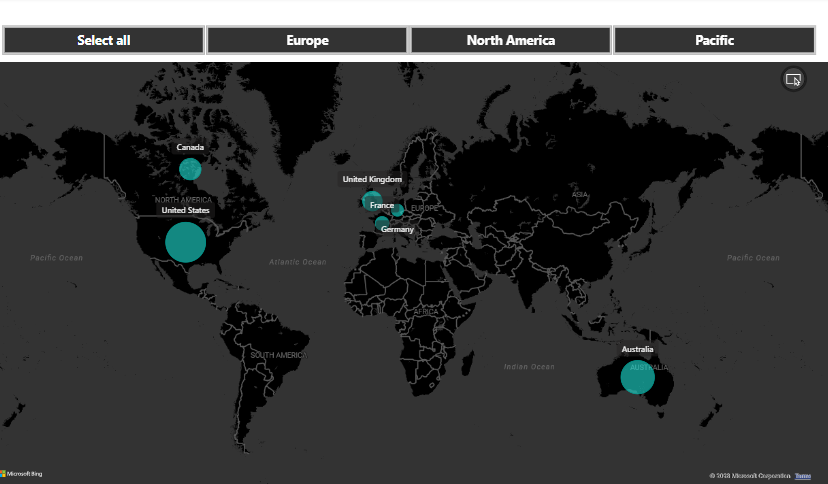

Layout of this report page (visuals, bound fields, positions):
{"tool":"powerbi","page":{"name":"Map","canvas":[1280,720],"ordinal":2},"visuals":[{"type":"shape","box":[0,0,46.1,720],"z":0},{"type":"map","fields":{"Category":["Territory Lookup.Country"],"Size":["Measure Table.Total Orders"]},"box":[46.1,90.6,1233.4,629.4],"z":1000},{"type":"slicer","fields":{"Values":["Territory Lookup.Continent"]},"box":[35,35,1244.5,55.6],"z":2000},{"type":"actionButton","box":[3.7,460.4,39.7,52.5],"z":3000},{"type":"actionButton","box":[3.7,565.3,39.7,52.5],"z":4000},{"type":"actionButton","box":[3.7,617.7,39.7,52.5],"z":5000},{"type":"actionButton","box":[3.7,512.8,39.7,52.5],"z":6000}]}

Visuals, with their boxes on the page's 1280x720 design canvas (x1, y1, x2, y2). These are canvas units, not pixel positions in the 828x484 screenshot, which may show the page scaled, cropped or inside an application window:
shape: bbox=(0, 0, 46, 720)
map - Territory Lookup.Country x Measure Table.Total Orders: bbox=(46, 91, 1280, 720)
slicer - Territory Lookup.Continent: bbox=(35, 35, 1280, 91)
actionButton: bbox=(4, 460, 43, 513)
actionButton: bbox=(4, 565, 43, 618)
actionButton: bbox=(4, 618, 43, 670)
actionButton: bbox=(4, 513, 43, 565)
